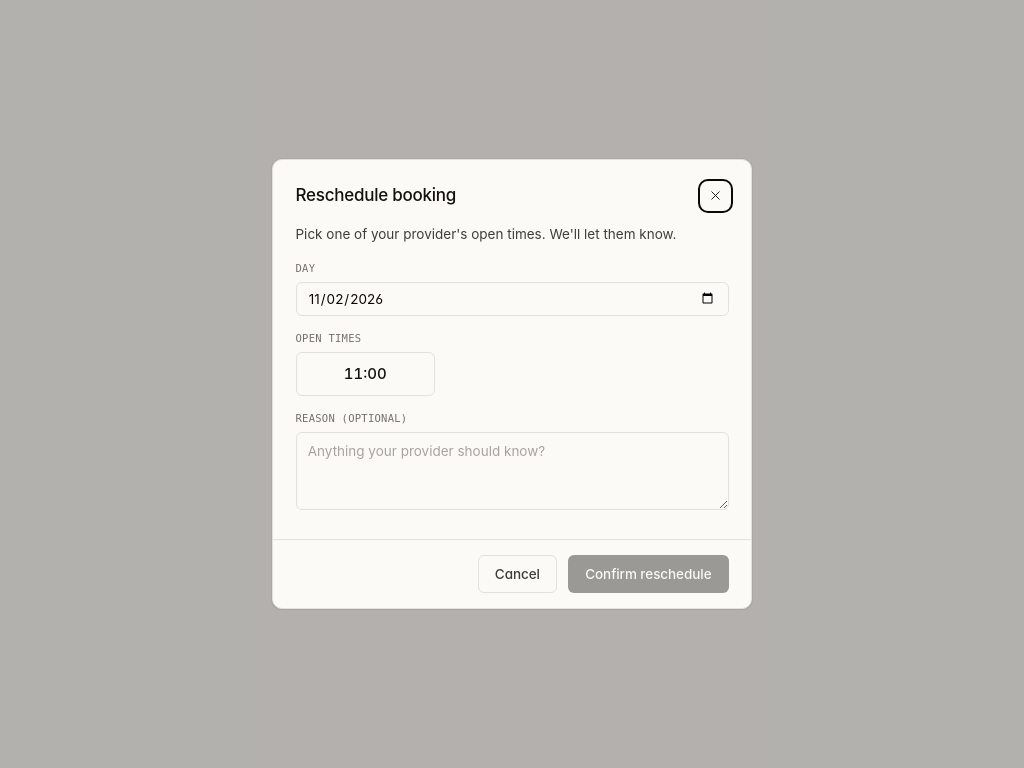
Test: RescheduleBookingModal › shows the API's message on a 400 and reloads the open times
Click the option "11:00" at (365, 374), box [296,352,435,396]
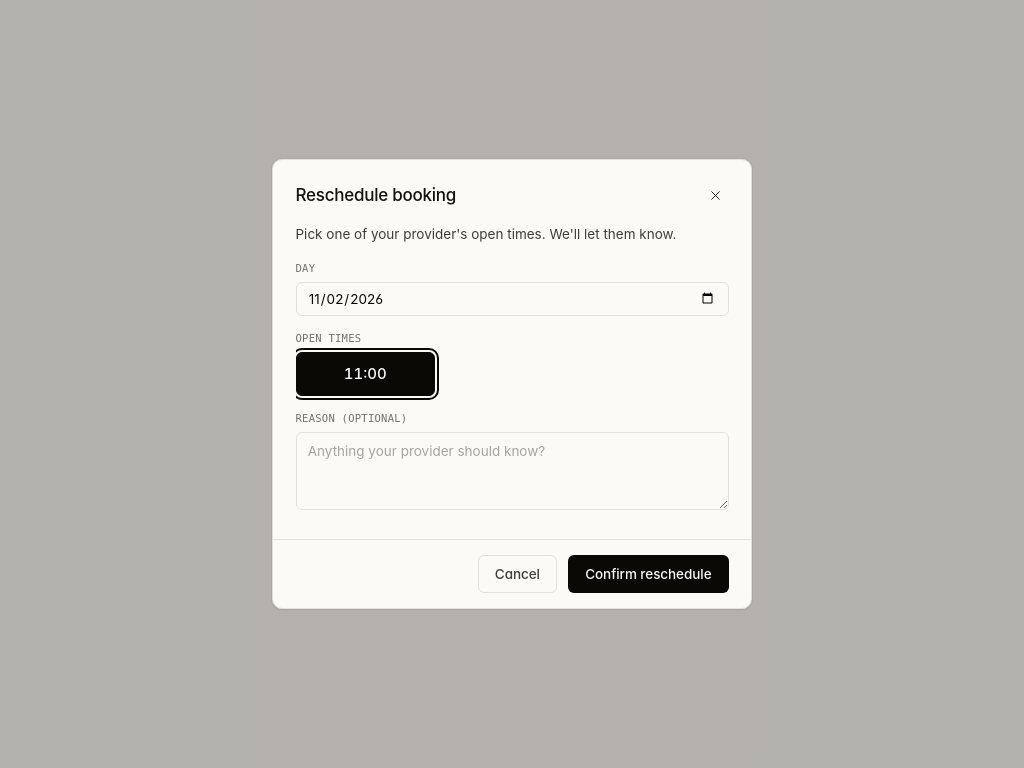
Click the button "Confirm reschedule" at (648, 574), box [568,555,728,593]
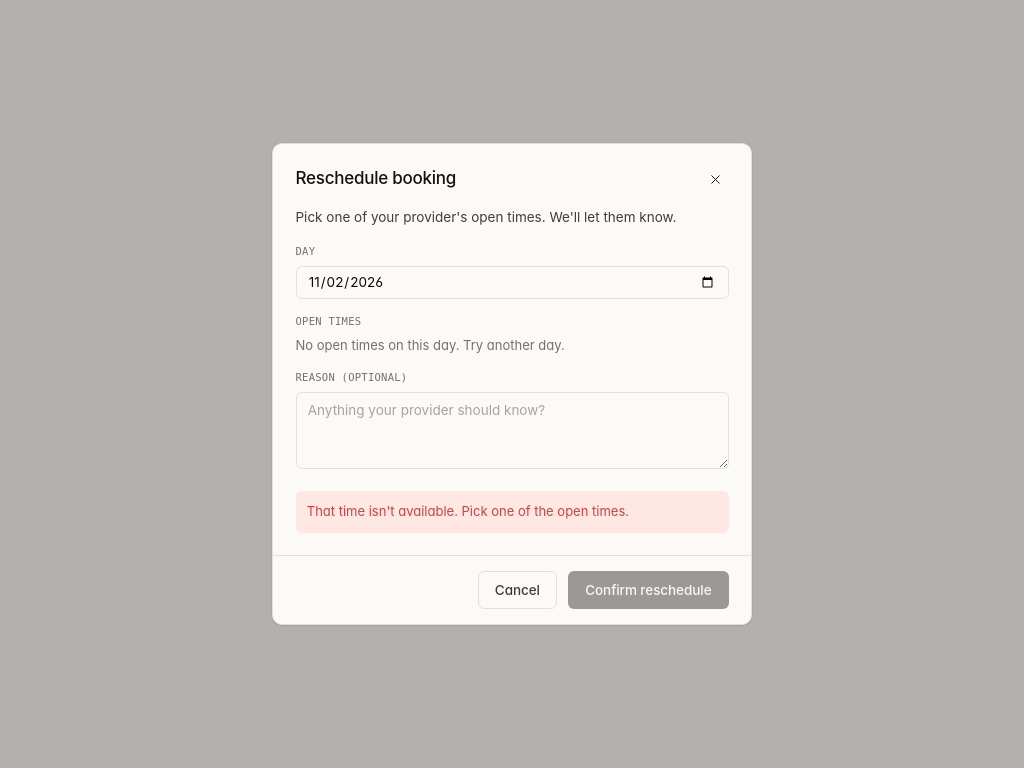
Check: the message reads "That time isn't available. Pick one of the open times.", box [307,503,629,519]
Check: the text "No open times on this day. Try another day." is shown, box [296,337,565,353]
